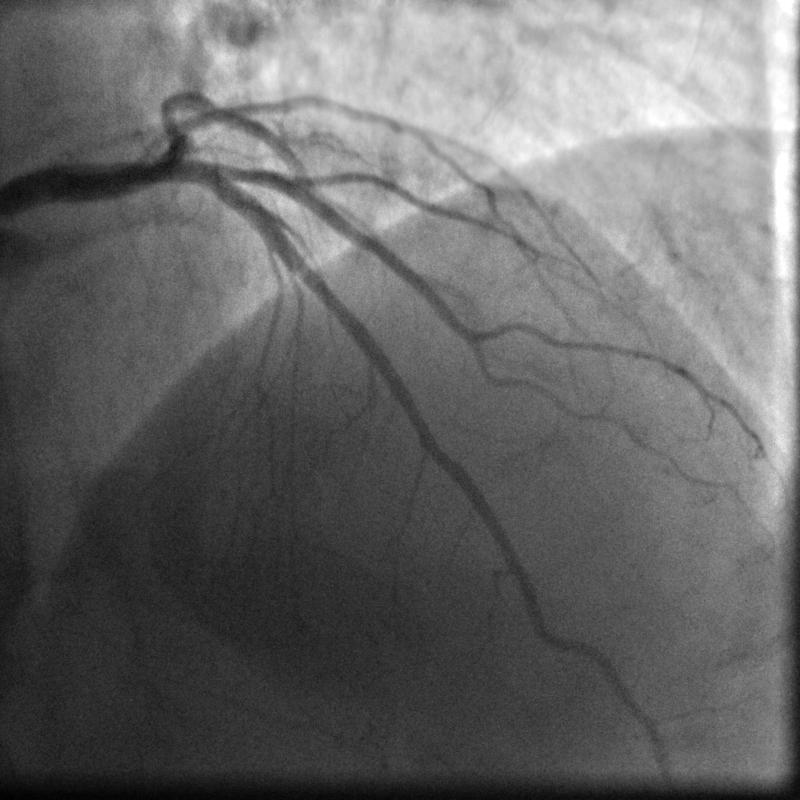Stenosis: (420, 421, 451, 478)
